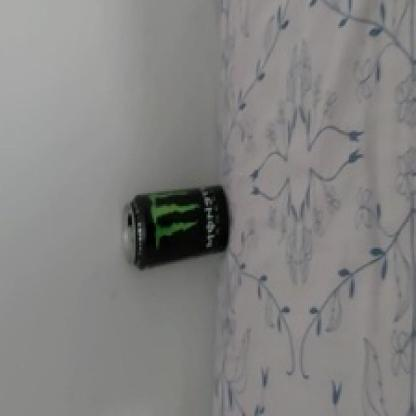Can: (111, 176, 239, 276)
